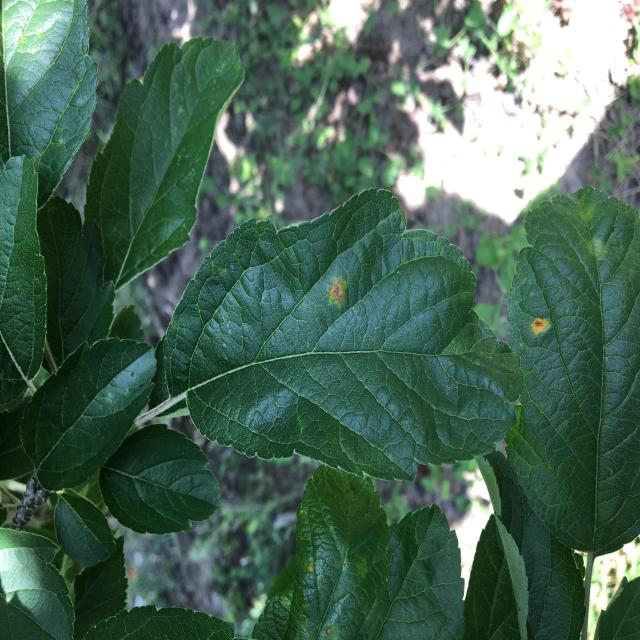Rust: (318, 248, 362, 336), (522, 305, 558, 358)
